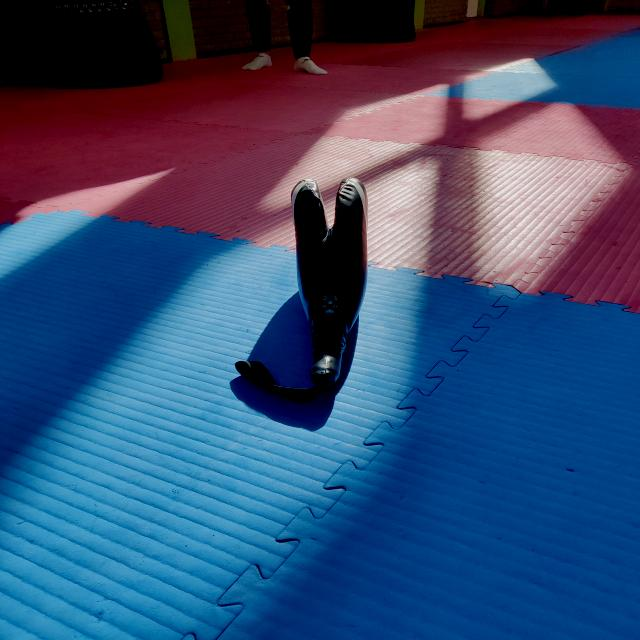paddle: (290, 176, 370, 386)
